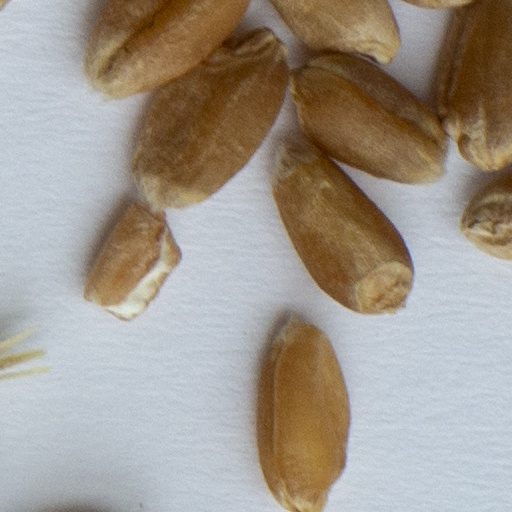Wheat-grain-damaged-poly: (77, 192, 181, 322)
